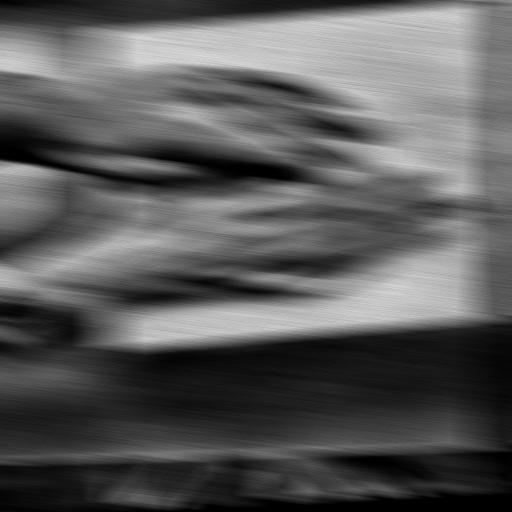bottom_left: (95, 347, 122, 354)
bottom_right: (88, 27, 115, 34)
mobile: (121, 92, 505, 251)
top_right: (476, 0, 504, 4)
